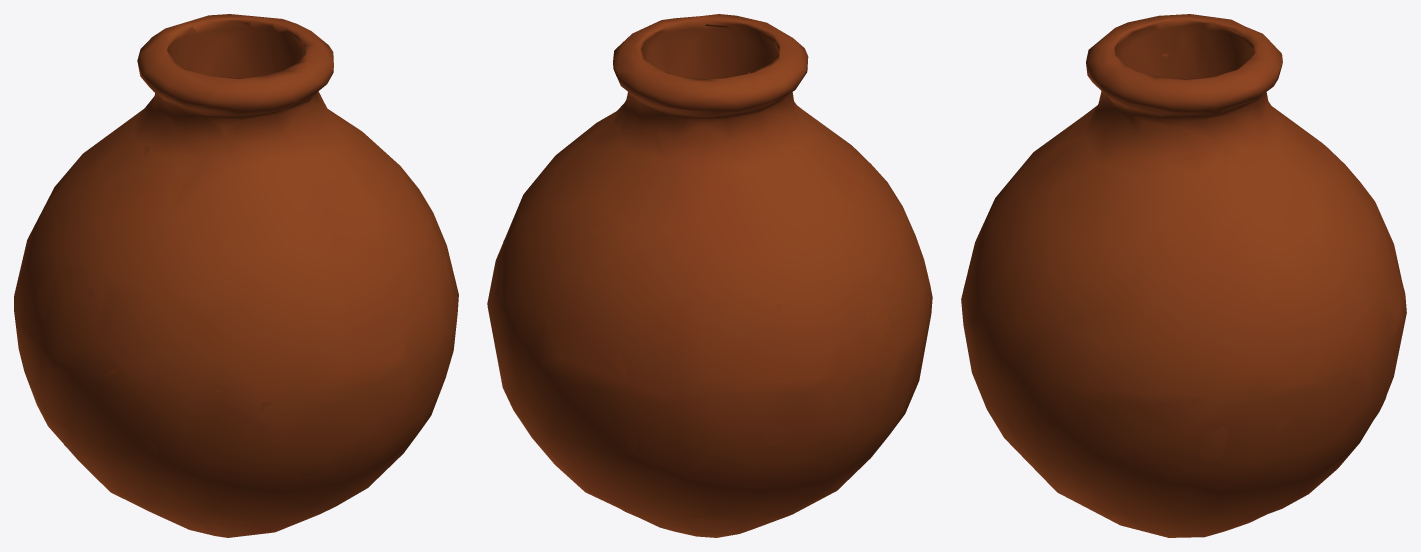
Rendered from gen3d-clay-pot-lod0.glb.
The picture shows the model from 3 angles, left to right: view 1: azimuth 30°, elevation 25°; view 2: azimuth 150°, elevation 25°; view 3: azimuth 270°, elevation 25°; orthographic projection.
Parts seen in each view (by area): view 1: part_0; view 2: part_0; view 3: part_0.
Boxes of the visible parts, x1,y1,x2,y2 form: part_0: (14,14,458,537); part_0: (487,14,932,537); part_0: (961,14,1406,537).
Size of the model in its own units: 0.8485 by 0.9988 by 0.8503.
